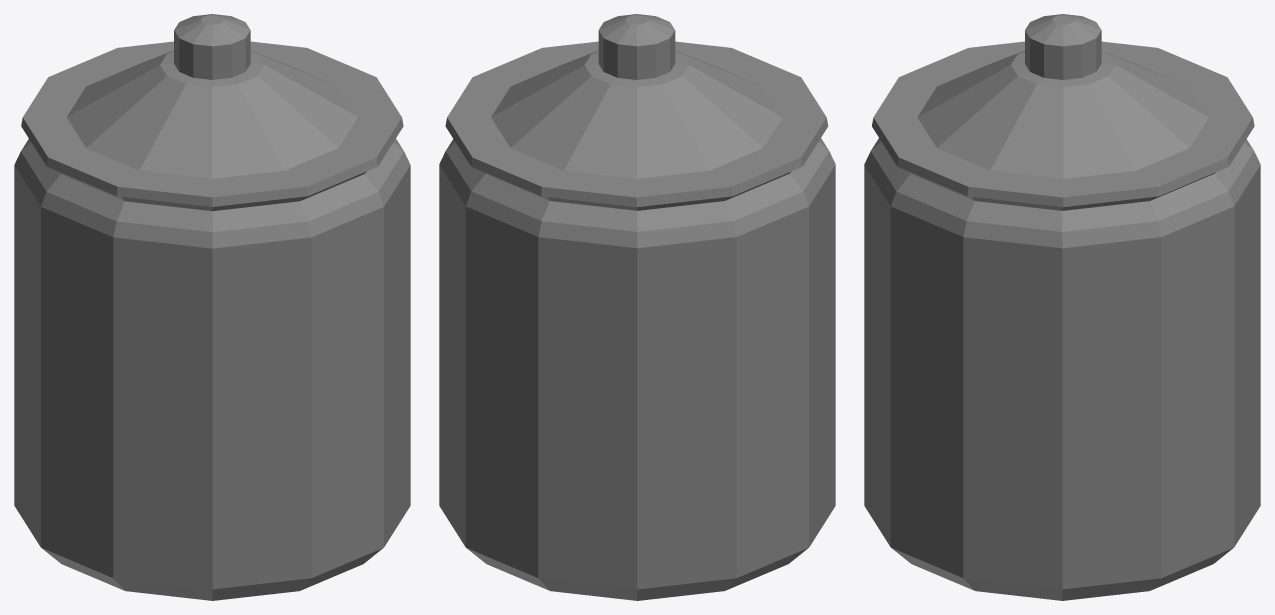
File: decor-vase.glb
3 views of the same model, side by side, from view 1: azimuth 30°, elevation 25°; view 2: azimuth 150°, elevation 25°; view 3: azimuth 270°, elevation 25° (orthographic).
Parts seen in each view (by area): view 1: Jar; view 2: Jar; view 3: Jar.
Part boxes in pixels (box(x1,y1,x2,y2)): Jar: box(14, 14, 410, 600); Jar: box(439, 14, 835, 600); Jar: box(864, 14, 1260, 600).
Bounding box in the file's own units: 0.22 × 0.3107 × 0.22.
Materials: 1 (1 with a texture image).
